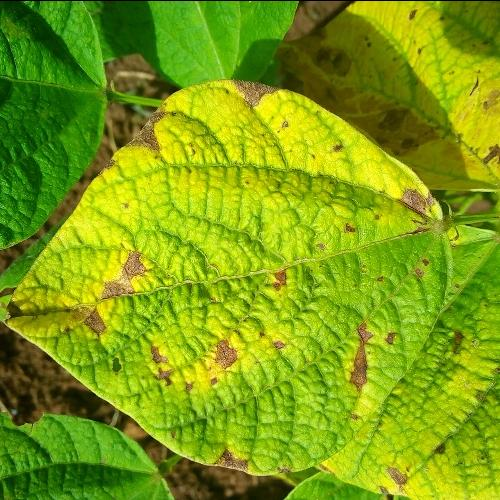hawar: (55, 45, 394, 487)
